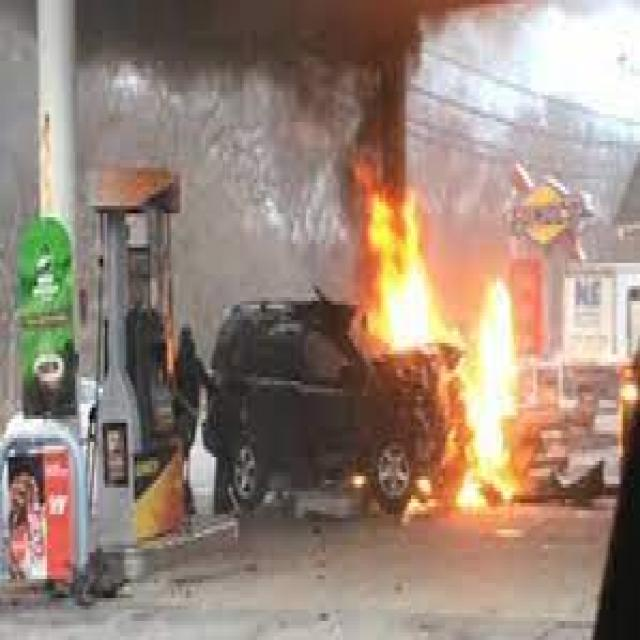fire: (456, 270, 531, 526), (353, 179, 456, 362)
smoke: (73, 4, 550, 91)
